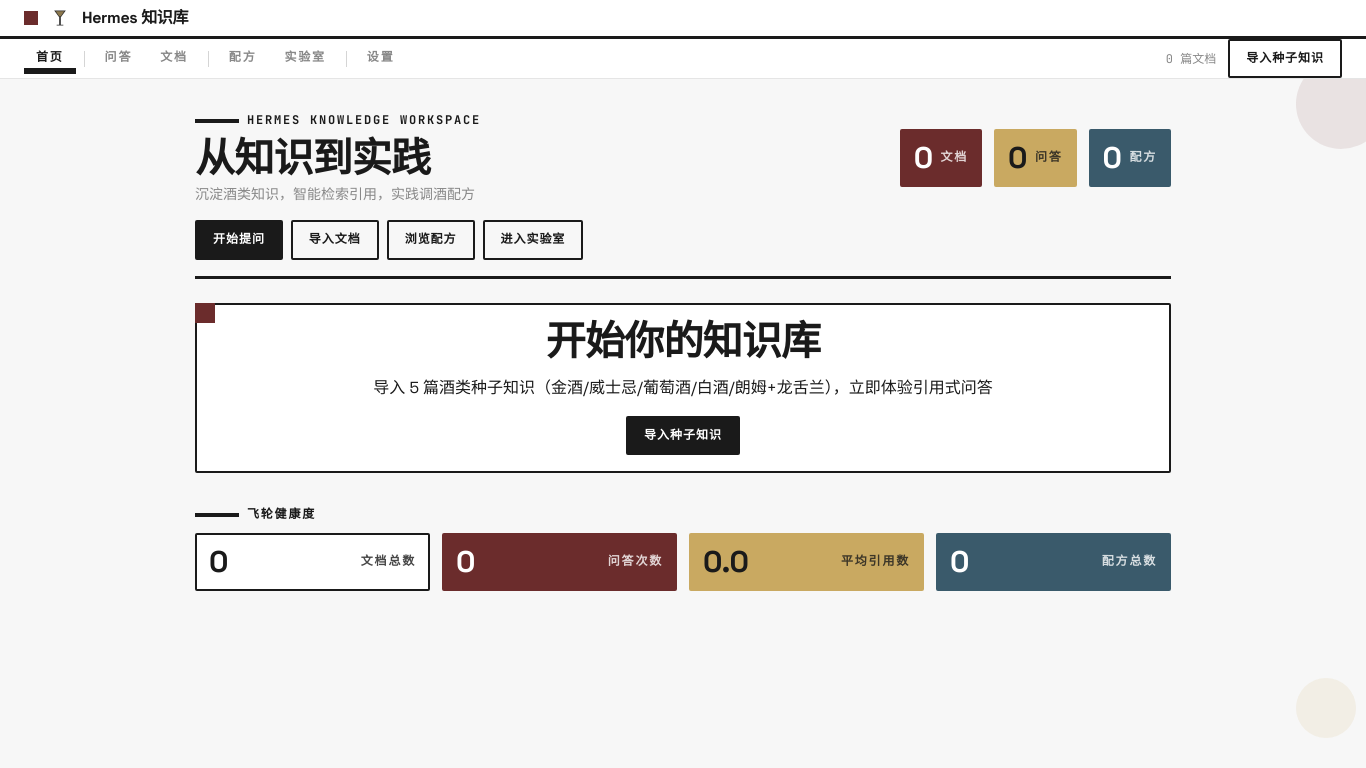
Test: 产品重构：分组导航与 IA › 空库时首页与顶部都展示「导入种子知识」按钮
The image size is (1366, 768).
Expected: the text "Hermes 知识库" is shown, [82, 9, 188, 27]
Click the button "导入种子知识" next to "篇文档" at coordinates (1285, 59), box [1228, 39, 1342, 78]
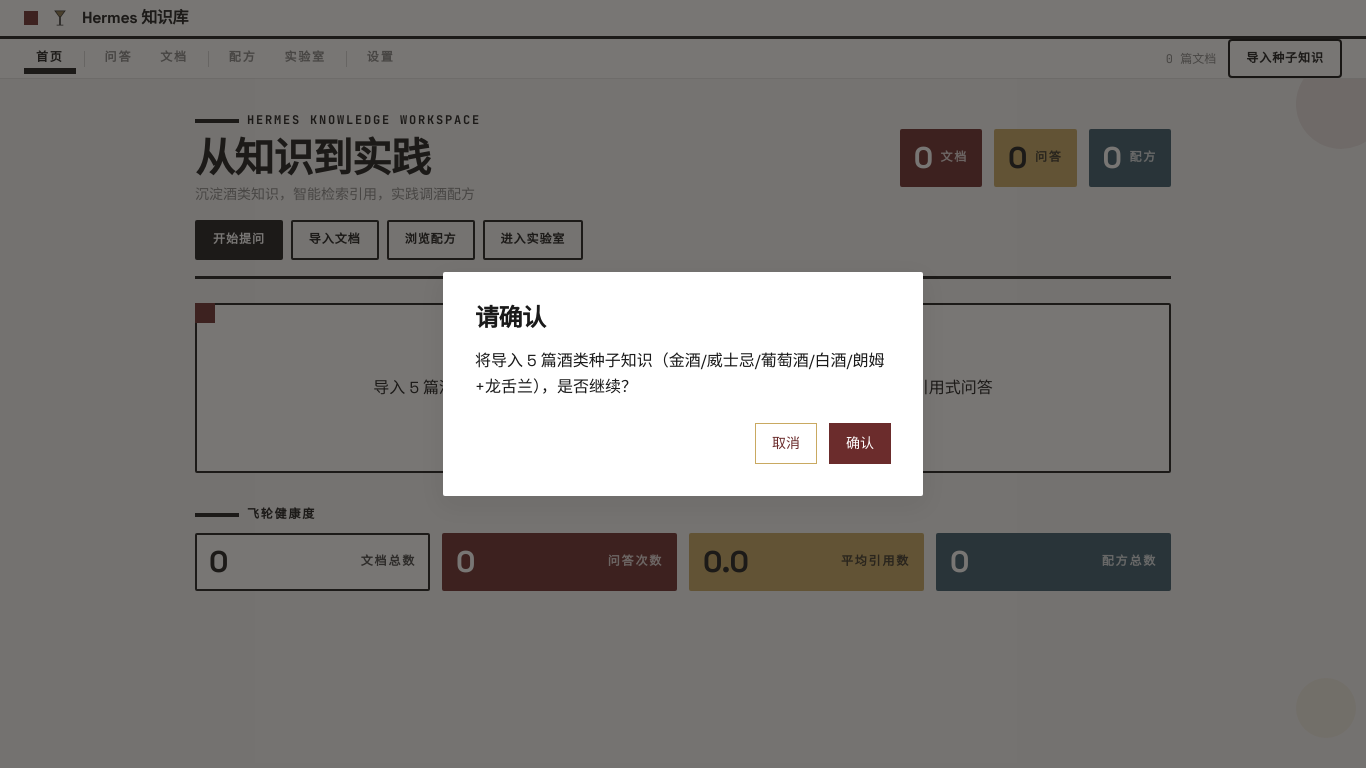
Expected: the heading "请确认" is shown, [475, 302, 546, 333]
Click the button "确认" at coordinates (860, 443), box [829, 423, 891, 464]
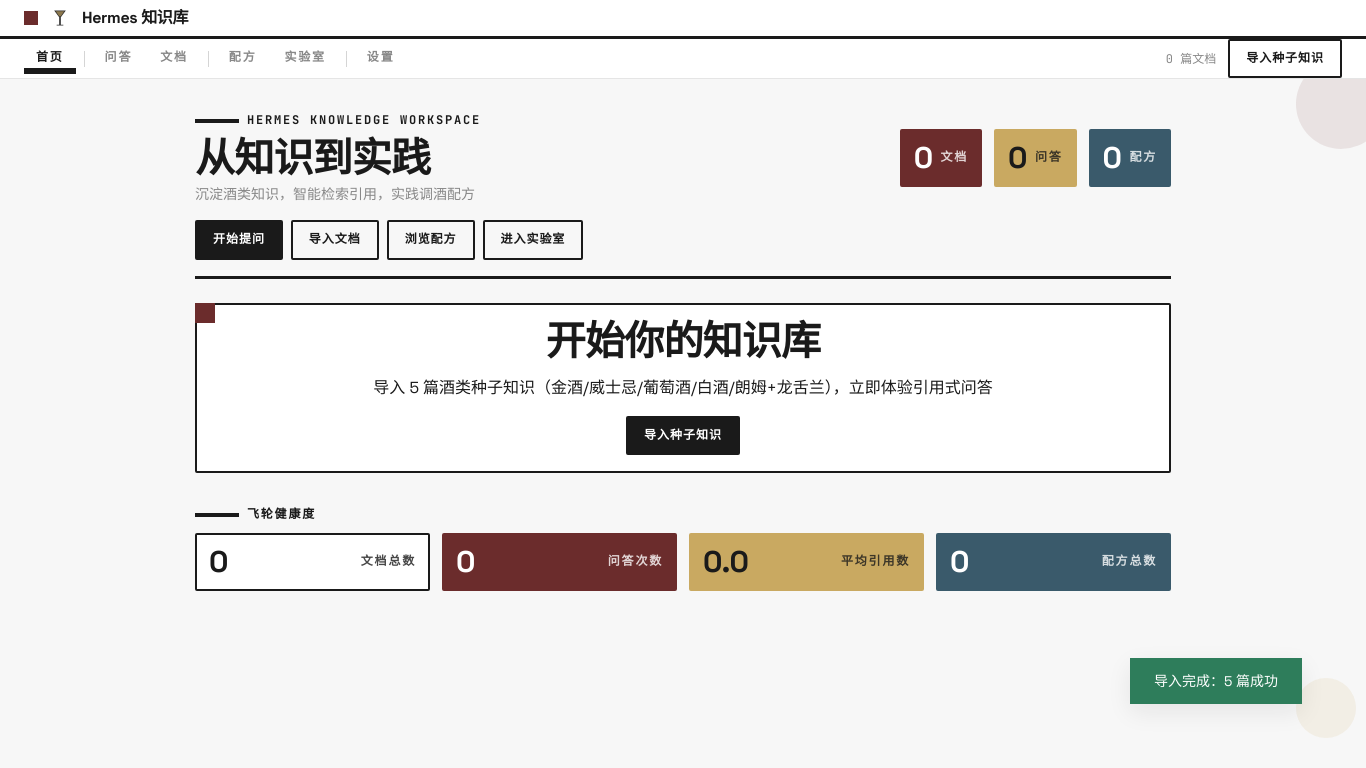
Expected: the text "导入完成：5 篇成功" is shown, [1130, 658, 1302, 704]
